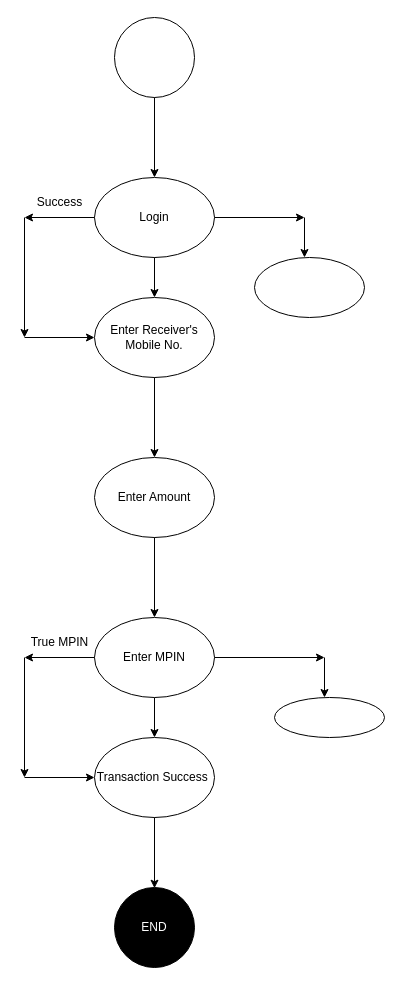
Image size: 402x985. Some labels were removed from this diagram. The shapes that lost their labels are listed below. From the top down, each one's centre as x and y in pixels, then its label:
At pixel 154 57: "START".
At pixel 309 287: "SignUP".
At pixel 329 717: "Enter MPIN Again".
